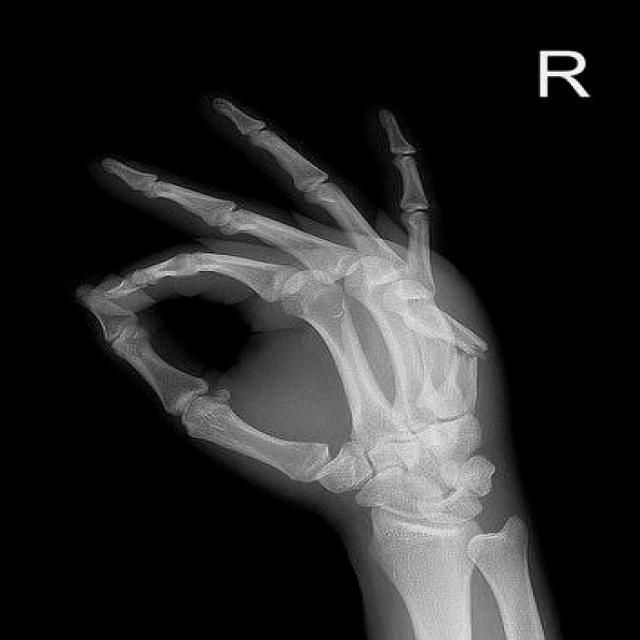fracture: (415, 304, 499, 388)
